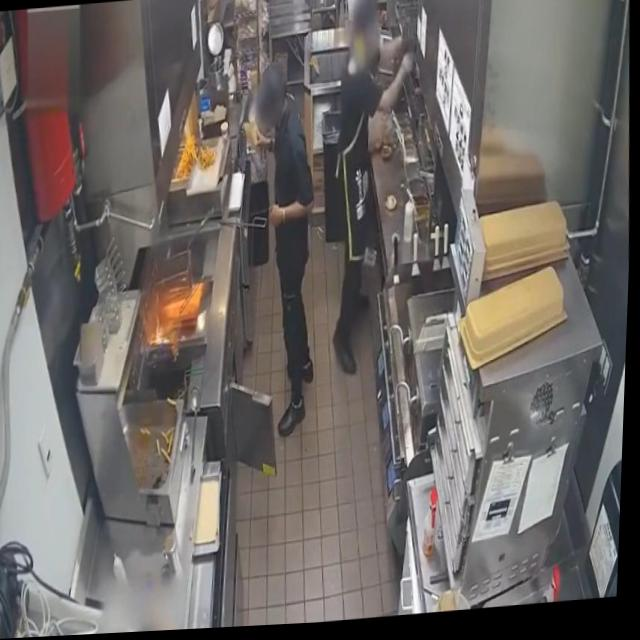fire: (149, 313, 177, 348)
